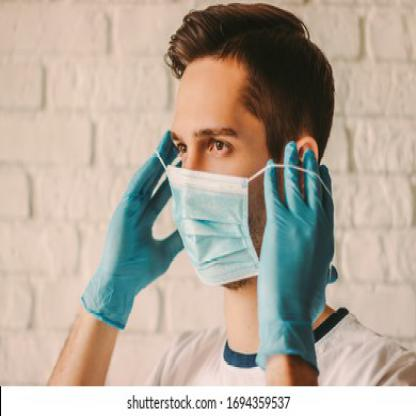glove: (79, 130, 186, 335), (253, 141, 338, 378)
